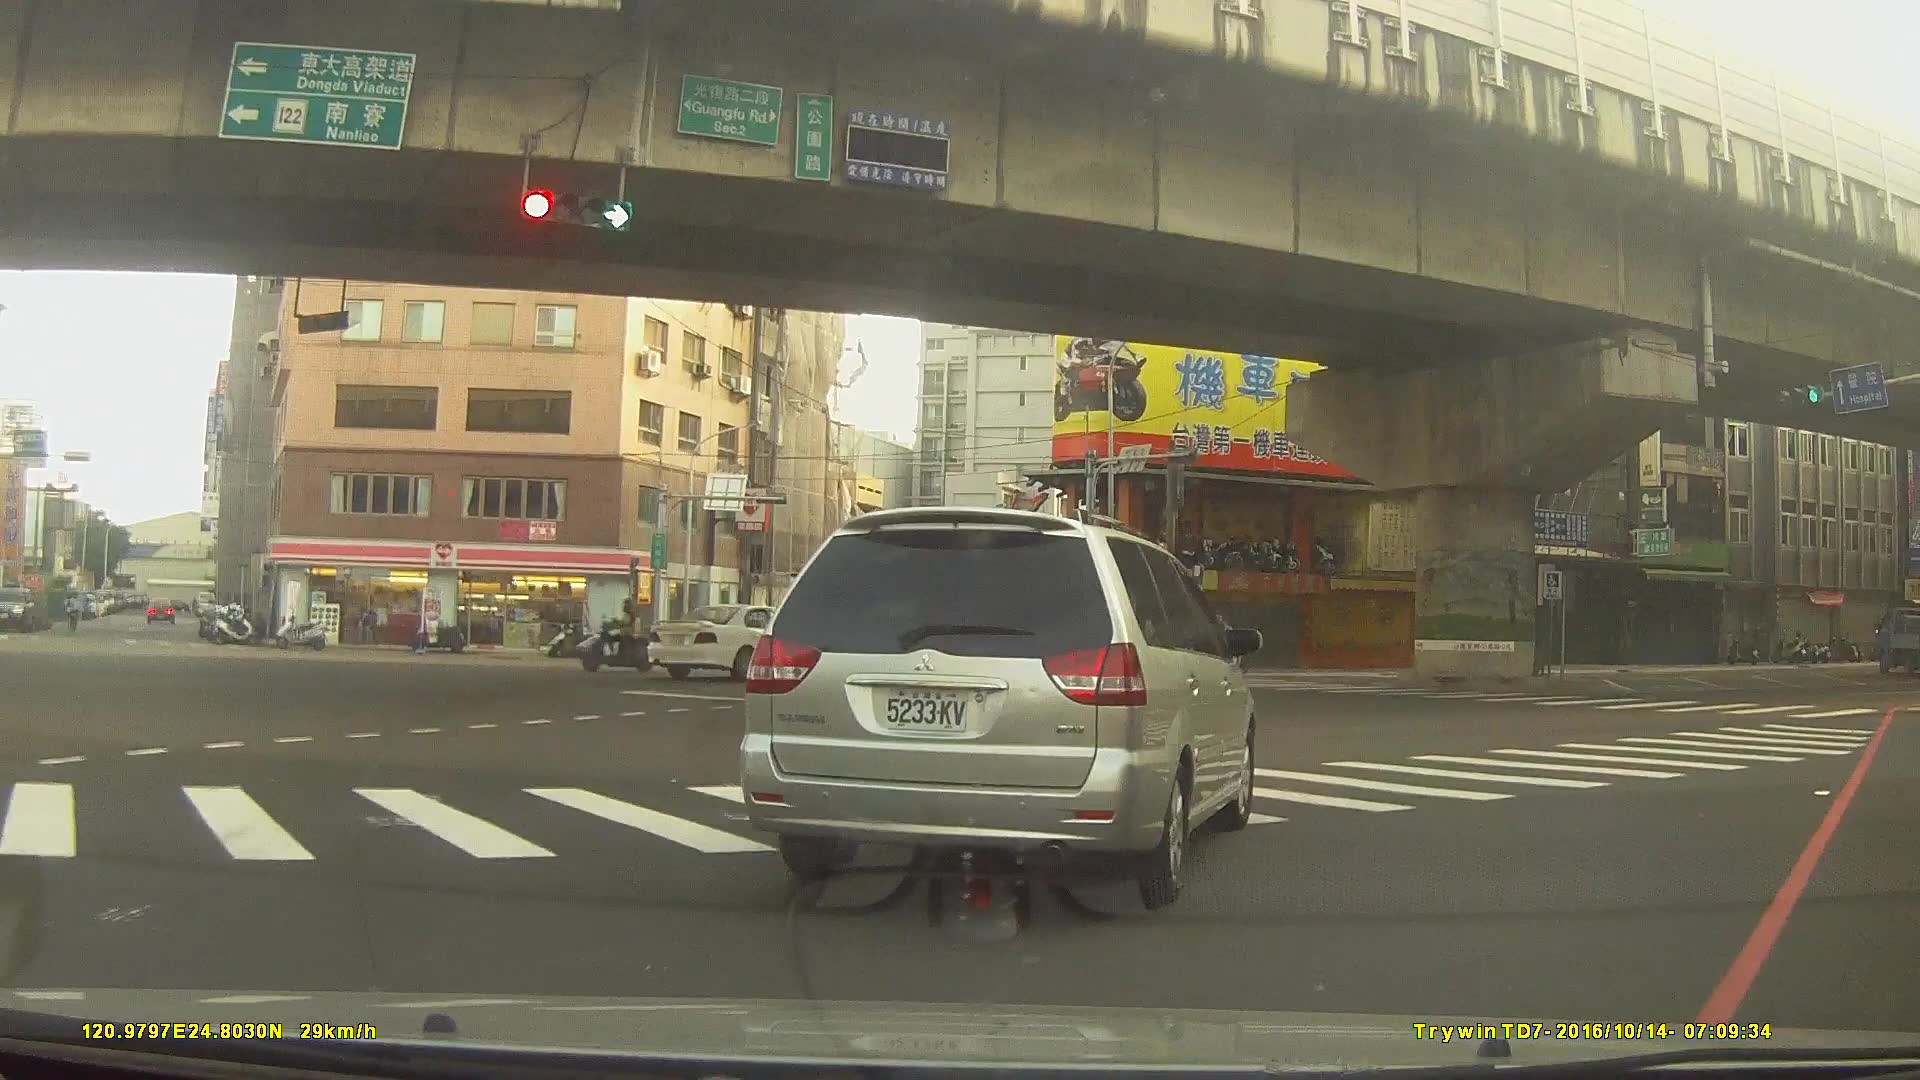rider: (582, 597, 652, 671)
vehicle: (739, 503, 1254, 911), (649, 601, 823, 677), (1871, 608, 1920, 672), (823, 633, 896, 674), (143, 596, 173, 624)
